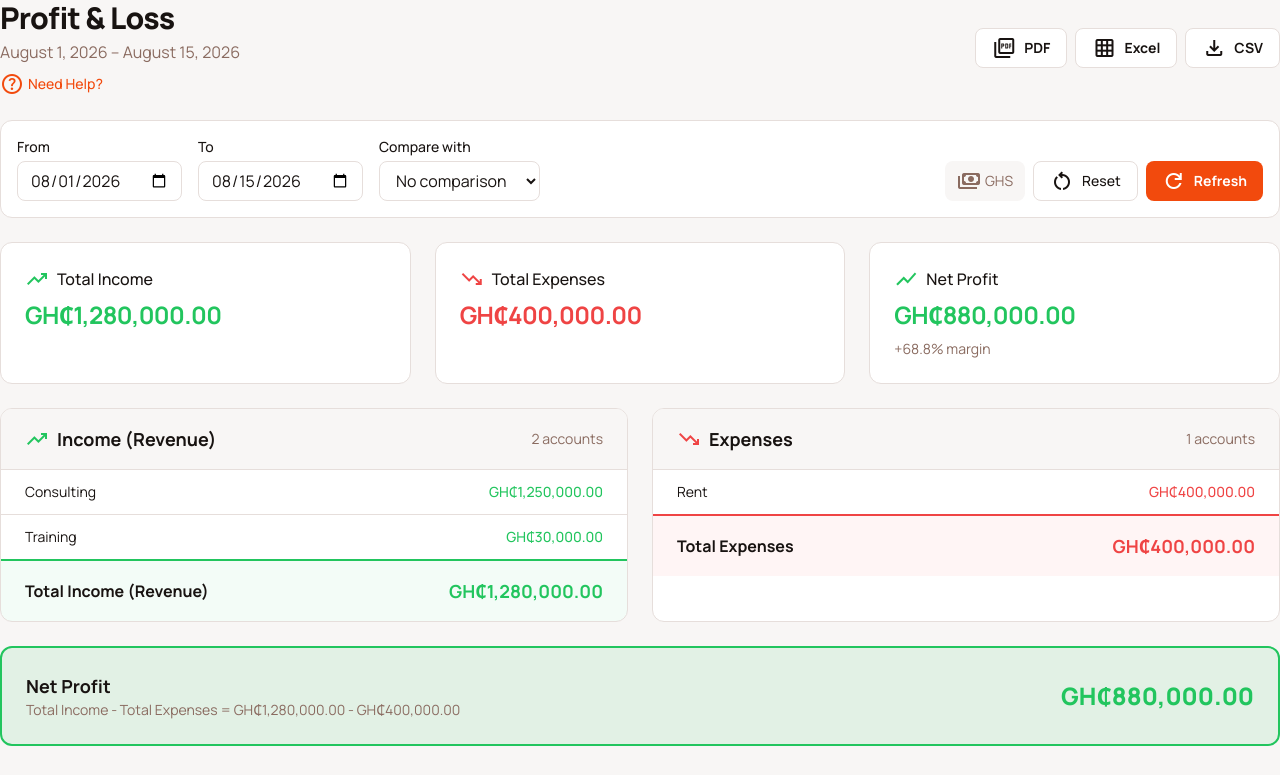
Scenario: Profit & Loss in the shell › compares with the previous period: requests it and shows previous figures per account
Expected: the text with test id "profit-loss-total-income" is shown, x1=25 y1=298 x2=221 y2=331
Select "Previous period" in the dropdown with test id "profit-loss-comparison". click: (460, 181)
box: x1=379 y1=161 x2=540 y2=201
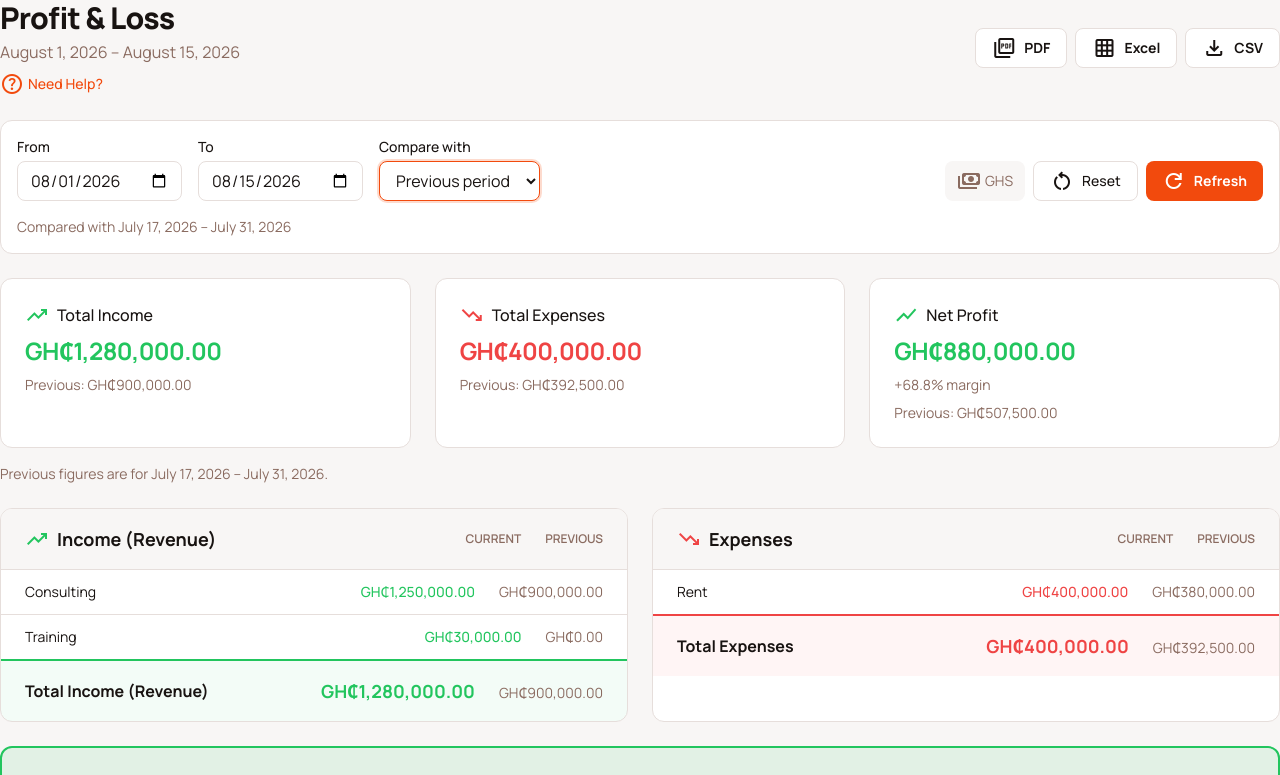
Expected: the text with test id "profit-loss-comparison-range" reads "Compared with July 17, 2026 – July 31, 2026", x1=17 y1=217 x2=292 y2=236
Expected: the text with test id "profit-loss-total-income-previous" shows "GH₵900,000.00", x1=88 y1=375 x2=192 y2=394
Expected: the text with test id "income-item-0-previous" reads "GH₵900,000.00", x1=499 y1=582 x2=603 y2=601
